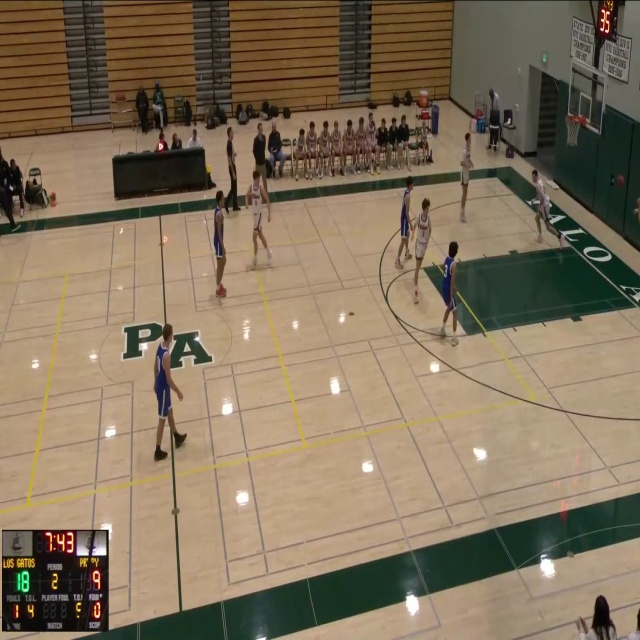Basketball: (614, 174, 624, 187)
